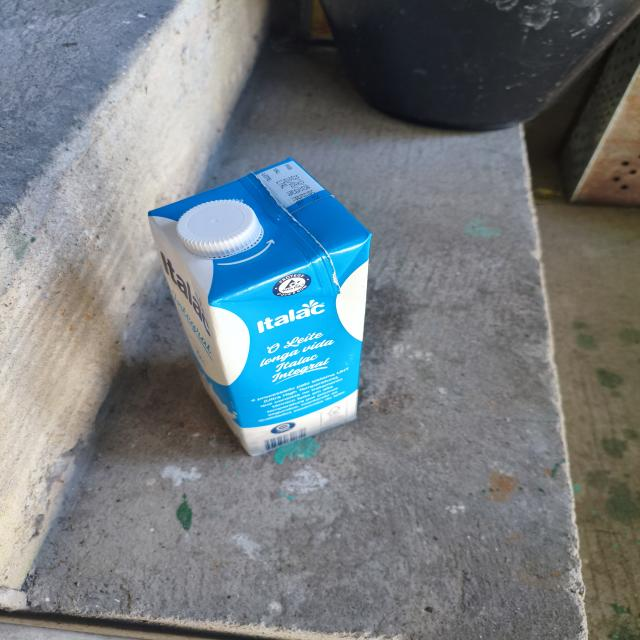Caixa de Leite: (122, 148, 387, 456)
